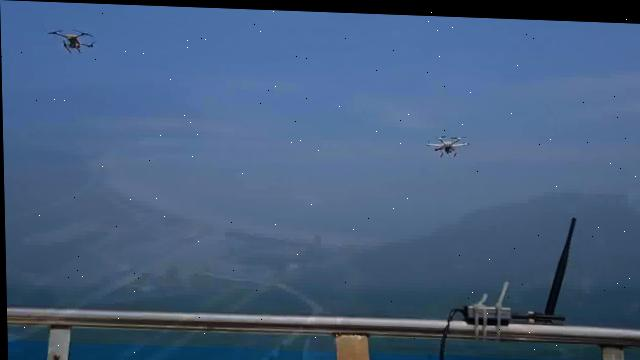drone: (17, 16, 128, 62)
